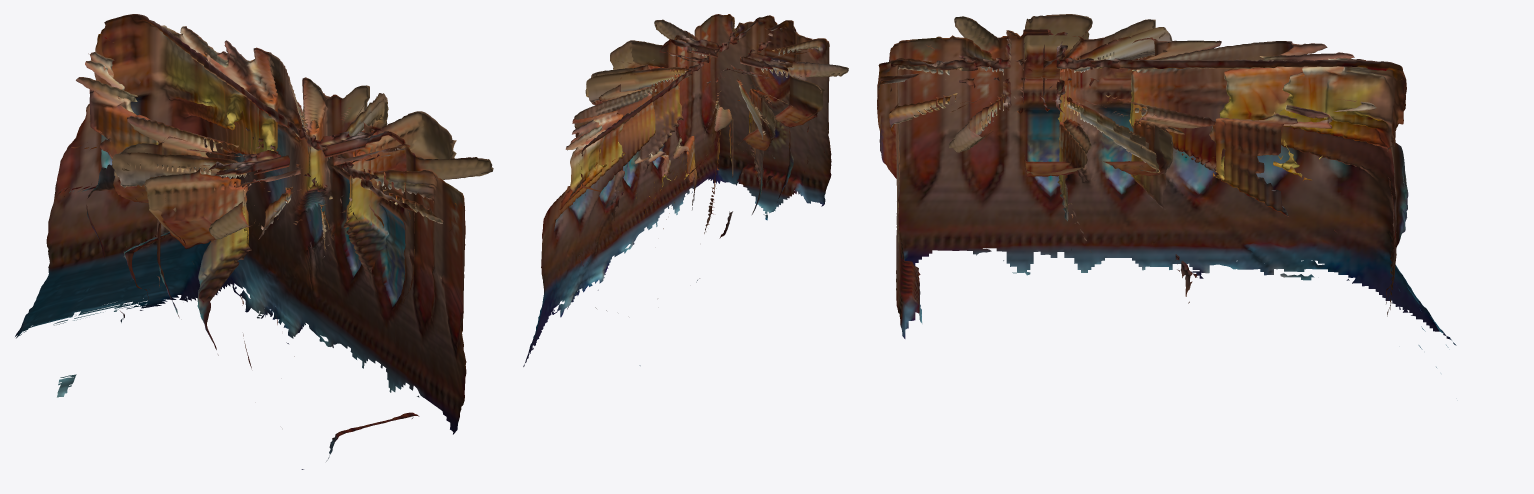
The model's file is pageworld-great-hall-sorting-v20260502212237-11b2f0bf-collider.glb.
3 views of the same model, side by side, from view 1: azimuth 30°, elevation 25°; view 2: azimuth 150°, elevation 25°; view 3: azimuth 270°, elevation 25° (orthographic). The views are drawn at different scales.
Visible parts, largest first — view 1: world; view 2: world; view 3: world.
Part boxes in pixels (bbox=[...]): world: bbox=[15, 14, 493, 469]; world: bbox=[523, 14, 848, 366]; world: bbox=[877, 14, 1456, 367].
Size of the model in its own units: 9.04 by 13.16 by 18.61.
